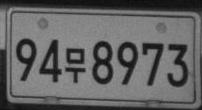3: (166, 43, 189, 87)
4: (38, 38, 62, 83)
7: (142, 41, 164, 86)
8: (91, 39, 114, 85)
9: (116, 40, 139, 85), (14, 37, 37, 81)
무: (63, 47, 86, 83)
